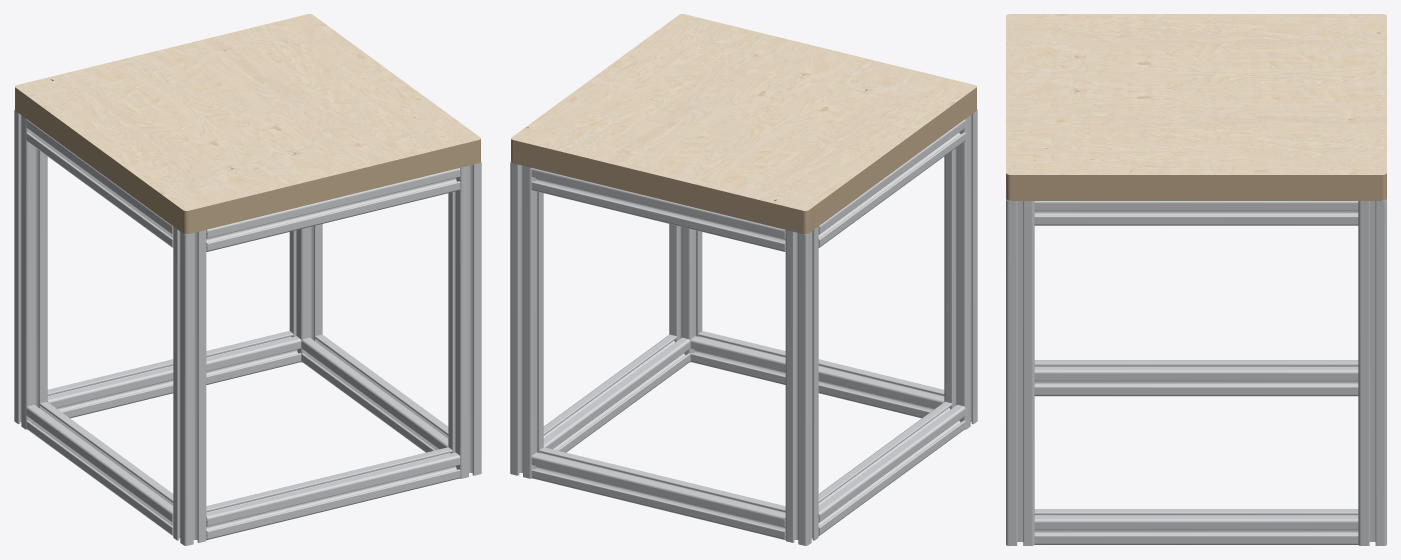
File: stool-01.glb
3 views of the same model, side by side, from view 1: azimuth 30°, elevation 25°; view 2: azimuth 150°, elevation 25°; view 3: azimuth 270°, elevation 25° (orthographic). The views are drawn at different scales.
Visible parts, largest first — view 1: PLYWOOD SEAT, PROFILE 12, PROFILE 11, PROFILE 01, PROFILE 07, PROFILE 08, PROFILE 10, PROFILE 03, PROFILE 06, PROFILE 09, PROFILE 05; view 2: PLYWOOD SEAT, PROFILE 01, PROFILE 09, PROFILE 12, PROFILE 08, PROFILE 07, PROFILE 10, PROFILE 04, PROFILE 06, PROFILE 11, PROFILE 05; view 3: PLYWOOD SEAT, PROFILE 10, PROFILE 06, PROFILE 09, PROFILE 11, PROFILE 02.
Boxes of the visible parts, x1,y1,x2,y2 form: PLYWOOD SEAT: (15,14,480,234); PROFILE 12: (173,226,206,545); PROFILE 11: (448,161,481,478); PROFILE 01: (14,109,47,429); PROFILE 07: (206,447,460,539); PROFILE 08: (47,331,301,418); PROFILE 10: (26,401,173,535); PROFILE 03: (206,168,460,251); PROFILE 06: (301,334,448,452); PROFILE 09: (289,224,322,362); PROFILE 05: (26,119,173,247); PLYWOOD SEAT: (511,14,976,234); PROFILE 01: (785,226,818,545); PROFILE 09: (510,161,543,478); PROFILE 12: (944,109,977,429); PROFILE 08: (531,447,785,539); PROFILE 07: (690,331,944,418); PROFILE 10: (818,401,965,535); PROFILE 04: (531,168,785,251); PROFILE 06: (543,334,690,452); PROFILE 11: (669,224,702,362); PROFILE 05: (818,119,965,247); PLYWOOD SEAT: (1006,14,1386,200); PROFILE 10: (1034,360,1358,396); PROFILE 06: (1034,509,1358,544); PROFILE 09: (1358,199,1386,545); PROFILE 11: (1006,199,1034,545); PROFILE 02: (1034,201,1358,225).
Size of the model in its own units: 0.4 by 0.43 by 0.4.
Materials: 3 (1 with a texture image).
